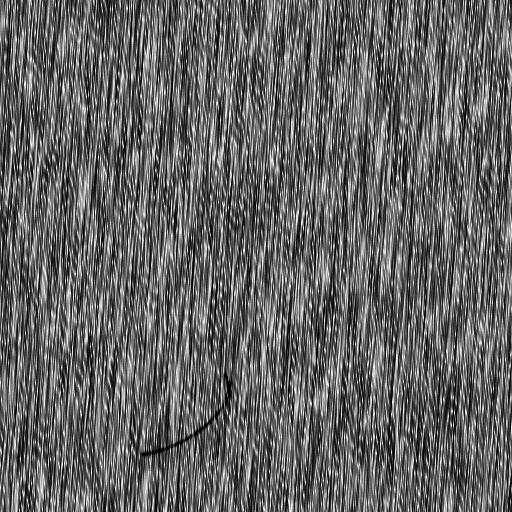DefectTypeC: (139, 373, 235, 455)
